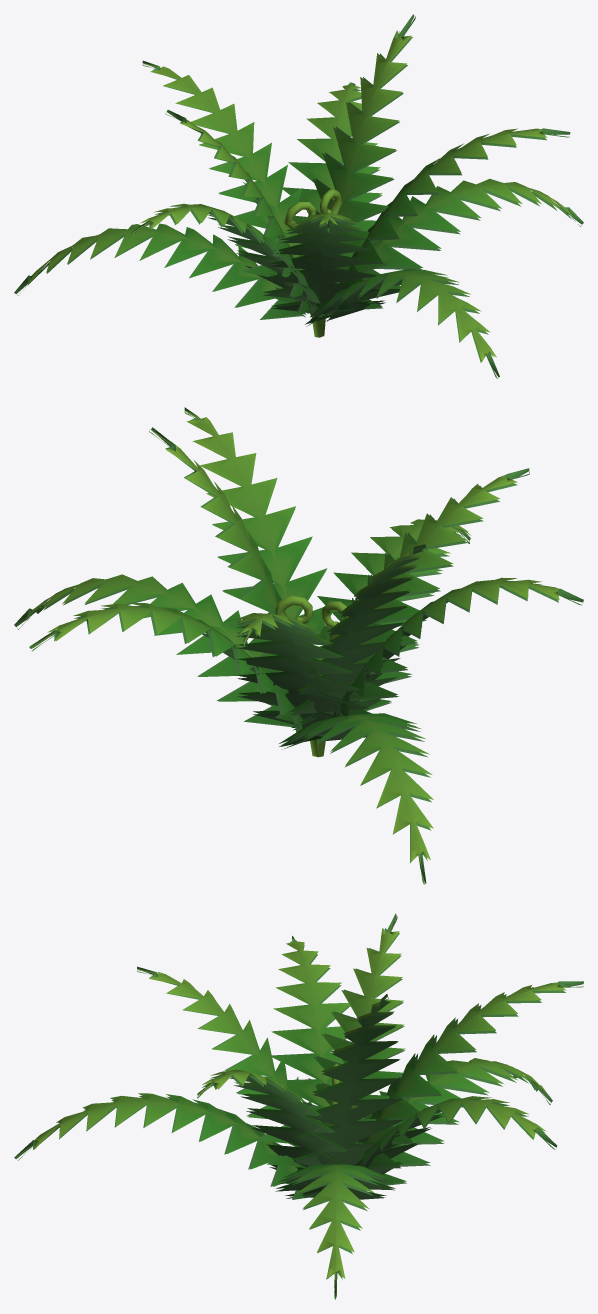
File: fern.glb
3 renders of one model, top to bottom at view 1: azimuth 30°, elevation 25°; view 2: azimuth 150°, elevation 25°; view 3: azimuth 270°, elevation 25°, orthographic. The views are drawn at different scales.
Parts seen in each view (by area): view 1: fern_mesh; view 2: fern_mesh; view 3: fern_mesh.
Part boxes in pixels (bbox=[...]): fern_mesh: bbox=[14, 14, 583, 378]; fern_mesh: bbox=[14, 407, 583, 884]; fern_mesh: bbox=[14, 913, 583, 1299].
Bounding box in the file's own units: 1.56 × 0.8616 × 1.58.
